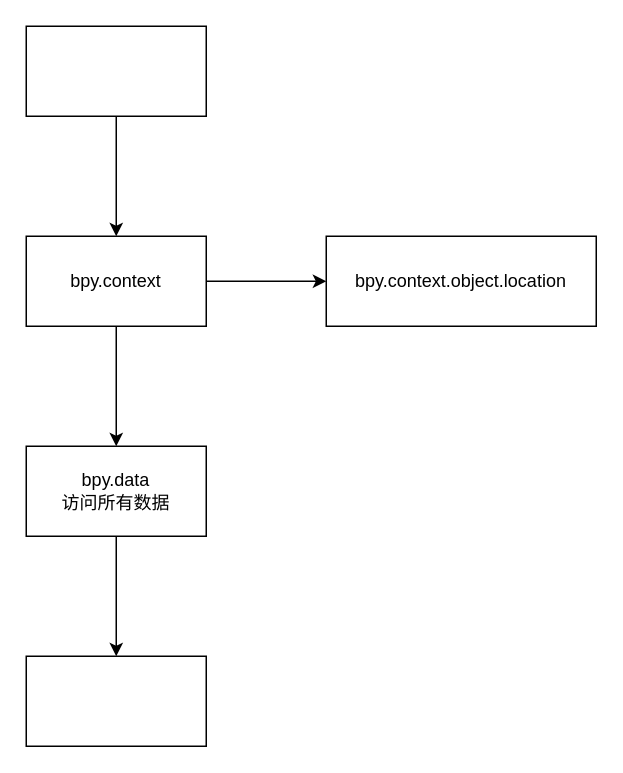
This 623x773 diagram has some shape labels left out. The box of each missing label's shape, as (x1, y1, x2, y2) in pixels:
blender接口bpy的简单使用: (25, 25, 206, 116)
bpy.ops 访问按钮: (25, 655, 206, 746)
